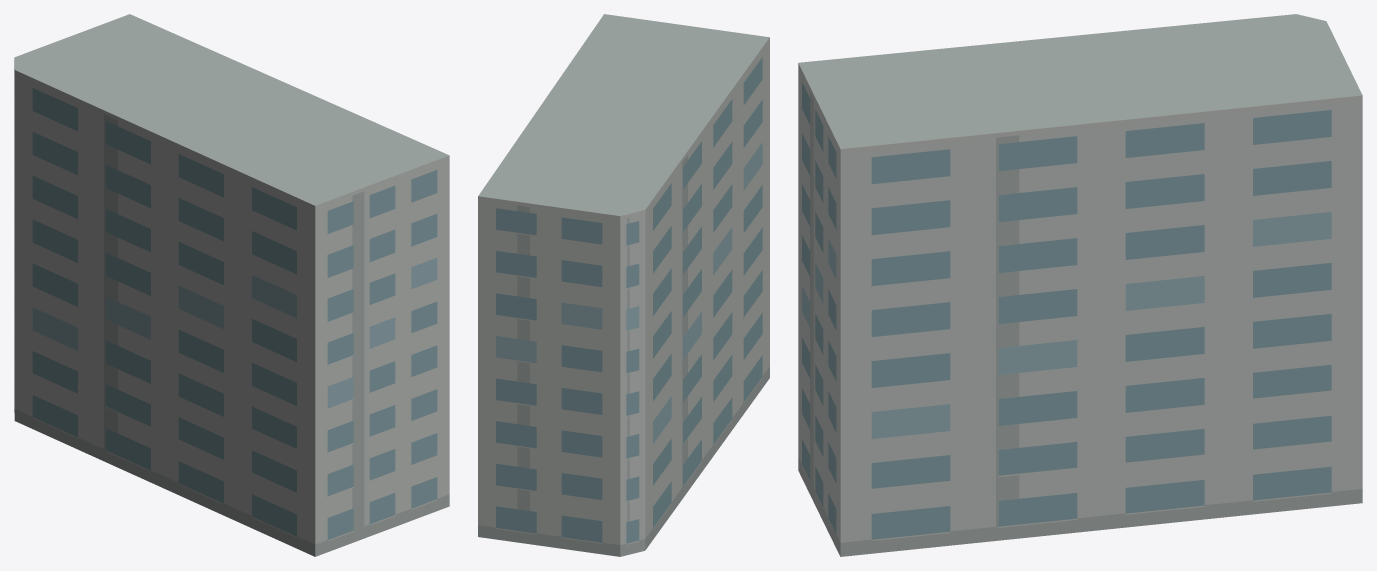
Rendered from survey-upis-32857108.glb.
3 views of the same model, side by side, from view 1: azimuth 30°, elevation 25°; view 2: azimuth 150°, elevation 25°; view 3: azimuth 270°, elevation 25° (orthographic). The views are drawn at different scales.
Parts seen in each view (by area): view 1: survey-upis-32857108.tmp; view 2: survey-upis-32857108.tmp; view 3: survey-upis-32857108.tmp.
Boxes of the visible parts, x1,y1,x2,y2 form: survey-upis-32857108.tmp: [14, 14, 449, 556]; survey-upis-32857108.tmp: [478, 14, 769, 556]; survey-upis-32857108.tmp: [798, 14, 1362, 556].
Size of the model in its own units: 15.94 by 22.4 by 28.11.
